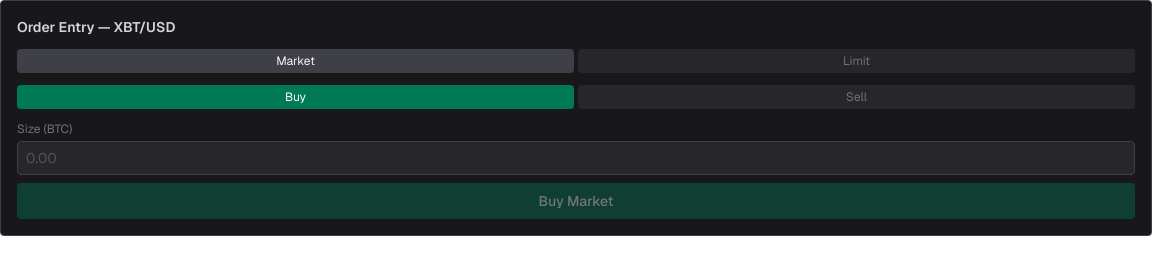
Test: OrderEntry › side toggle › changes submit button label when switching to Sell
Click the button "Sell".
click(856, 97)  # box [578,85,1135,109]
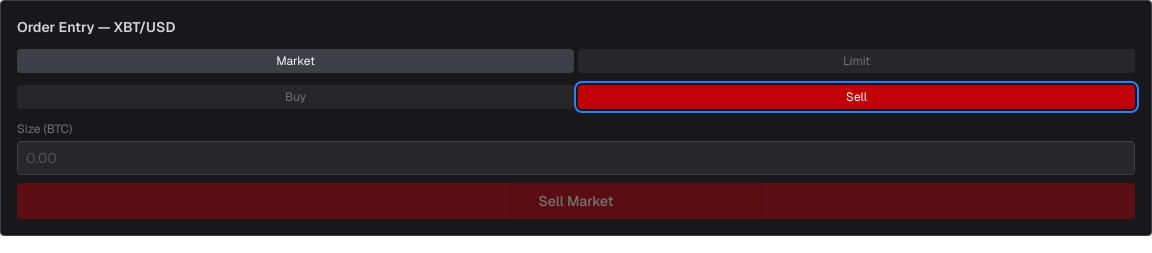
Expected: the button "Sell Market" is shown, [17,183,1135,219]
